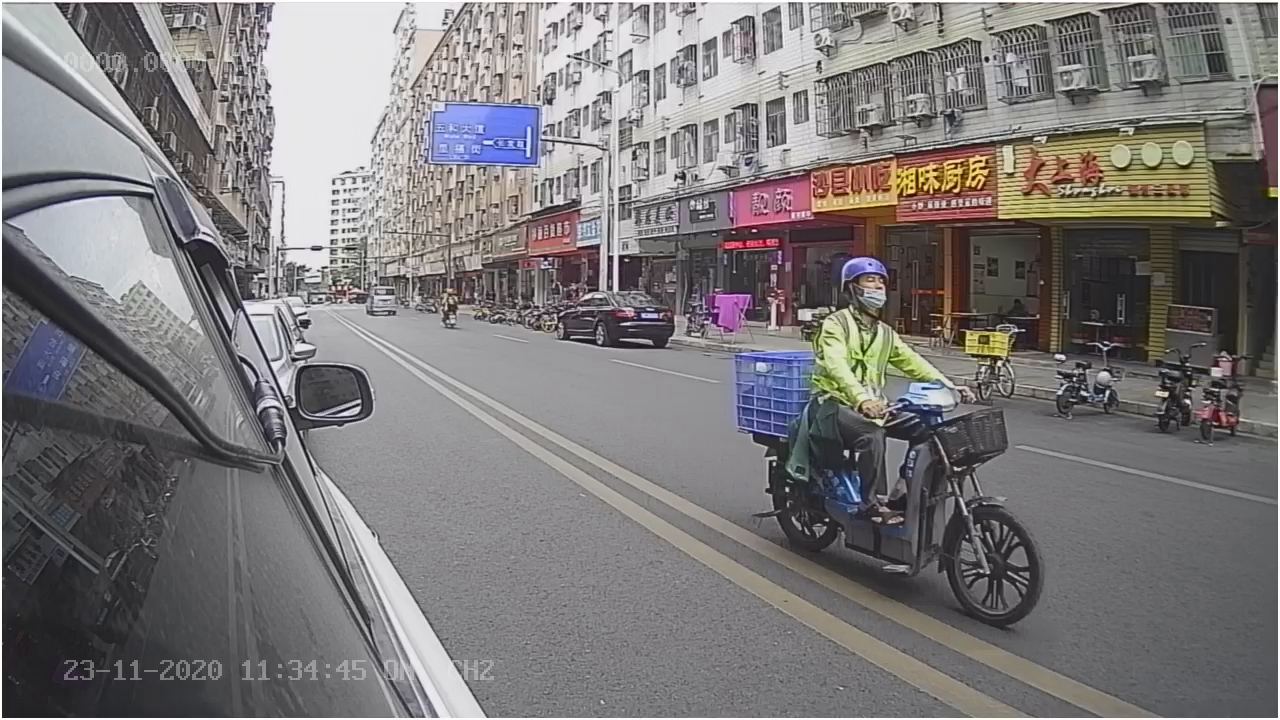person: (819, 254, 955, 418)
